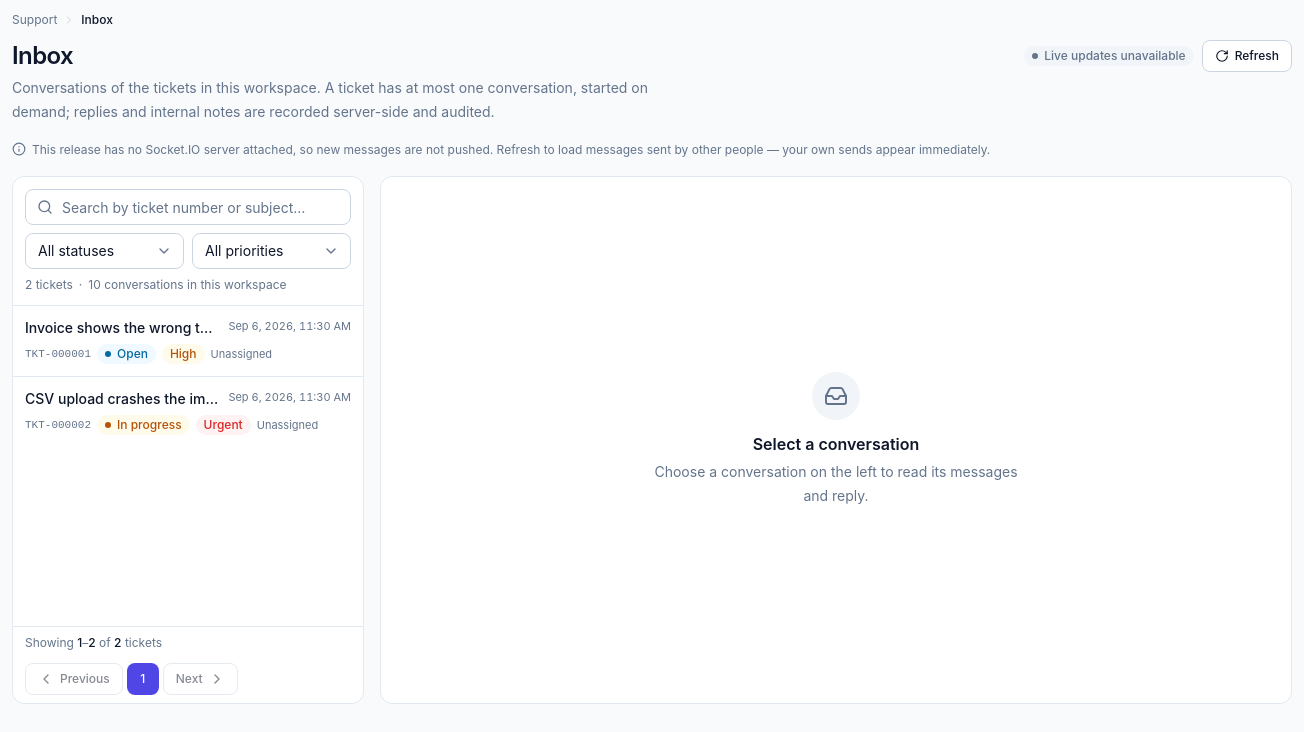
Scenario: InboxPage › sends a public reply through the API and renders the server record
Click the button "Invoice shows the wrong total" at (188, 341), box [13,306,363,376]
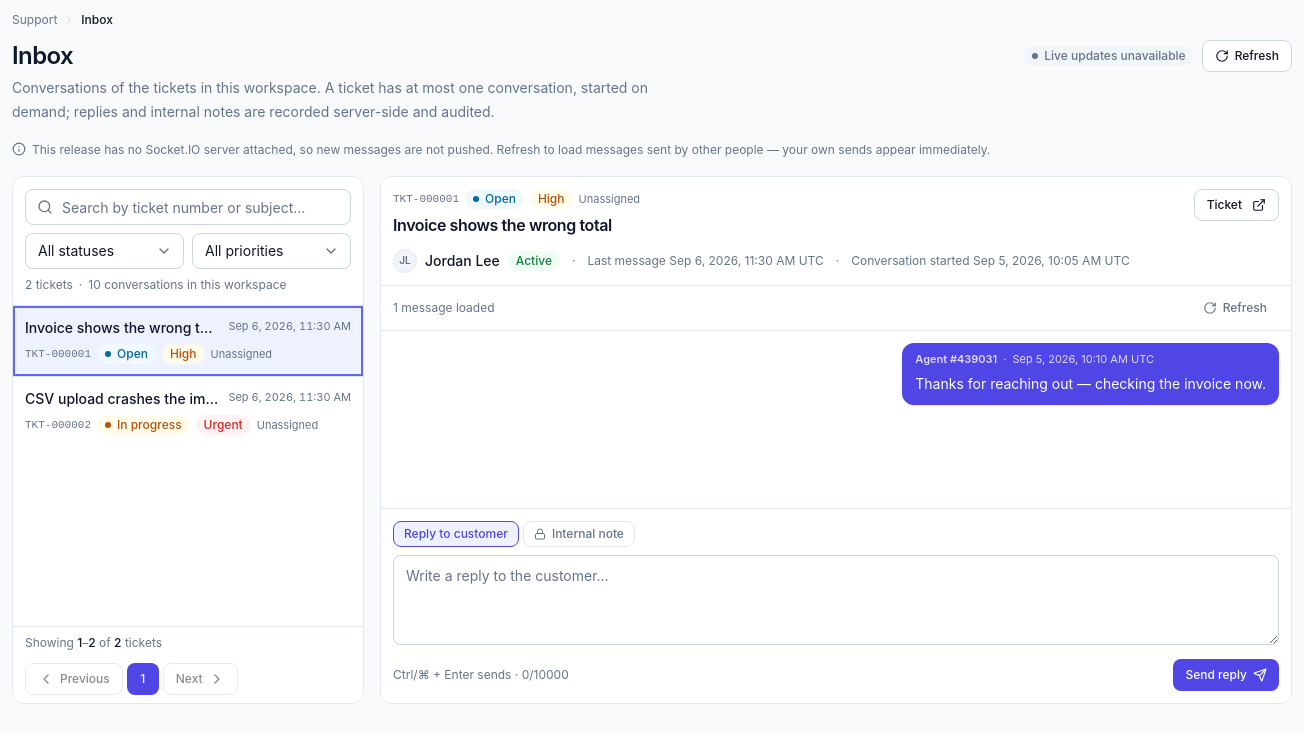
Expected: the text "Thanks for reaching out — checking the invoice now." is shown, [915,372,1266,396]
Type "We refunded order 8812." into the text box at (836, 600), box [393,555,1279,645]
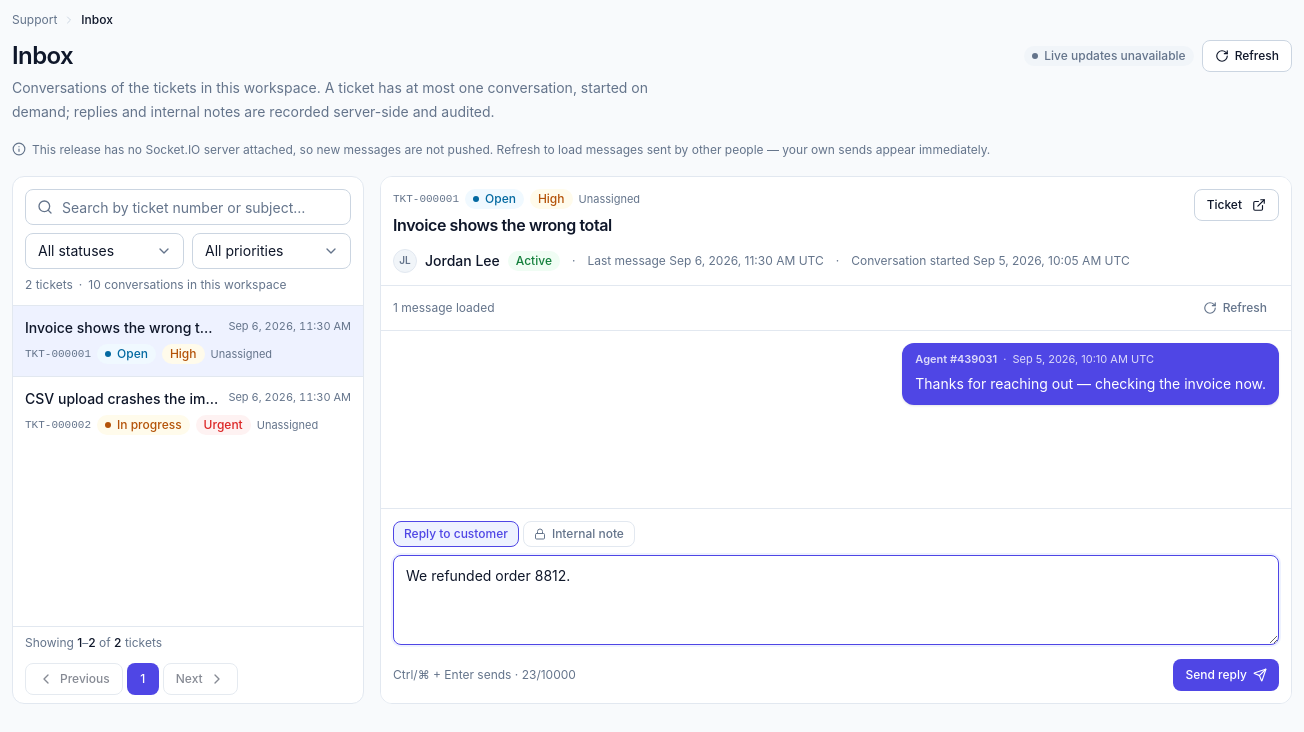
Click the button "Send reply" at (1226, 675), box [1174,659,1279,691]
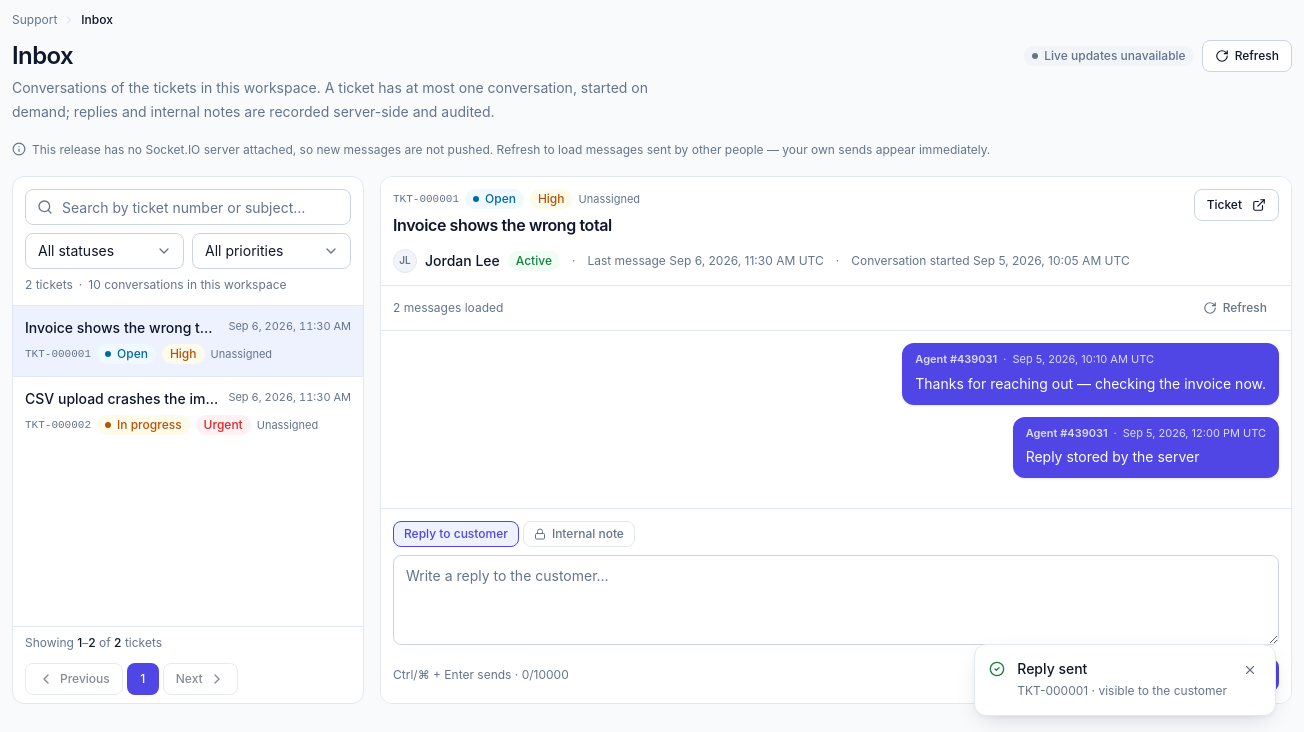
Expected: the text "Reply stored by the server" is shown, [1026,448,1200,465]
Expected: the text box is empty, [393,555,1279,645]
Expected: the text "Reply sent" is shown, [1017,660,1087,677]
